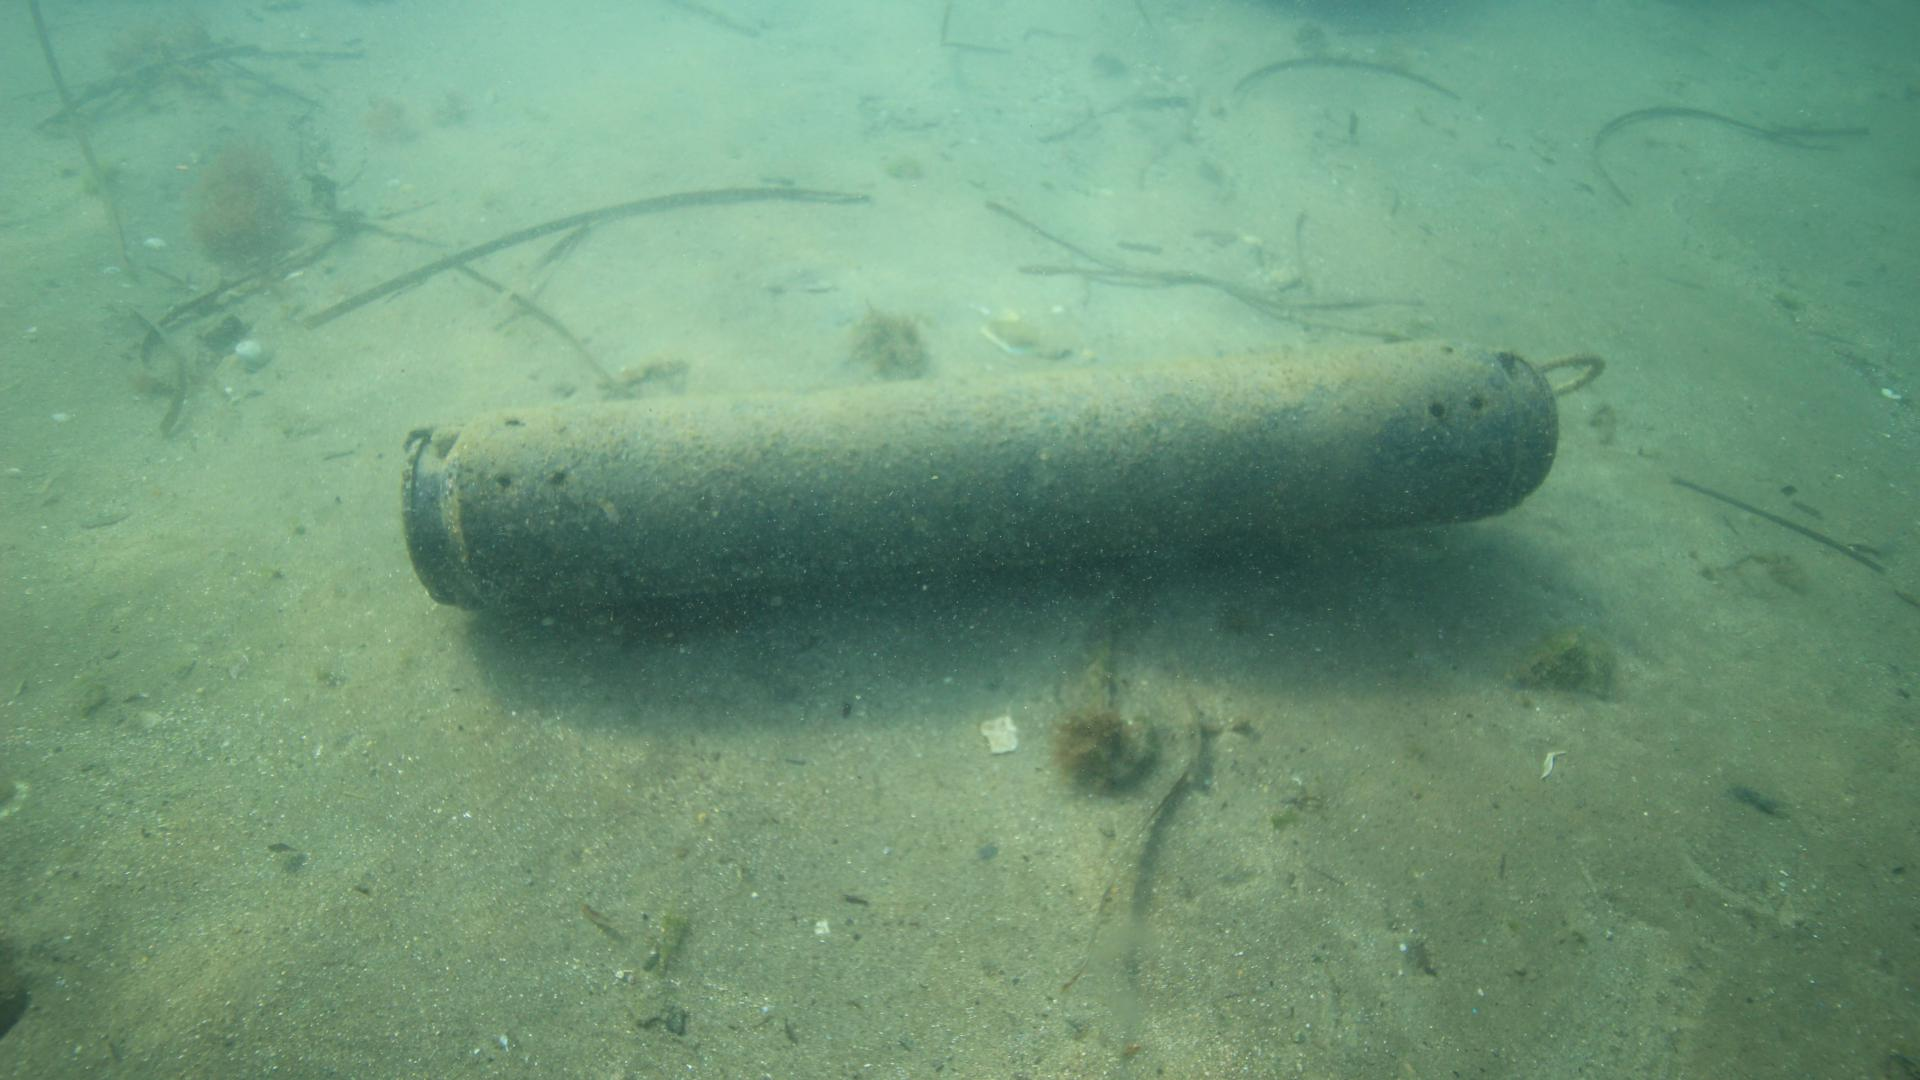eel fish trap: (398, 339, 1559, 618)
